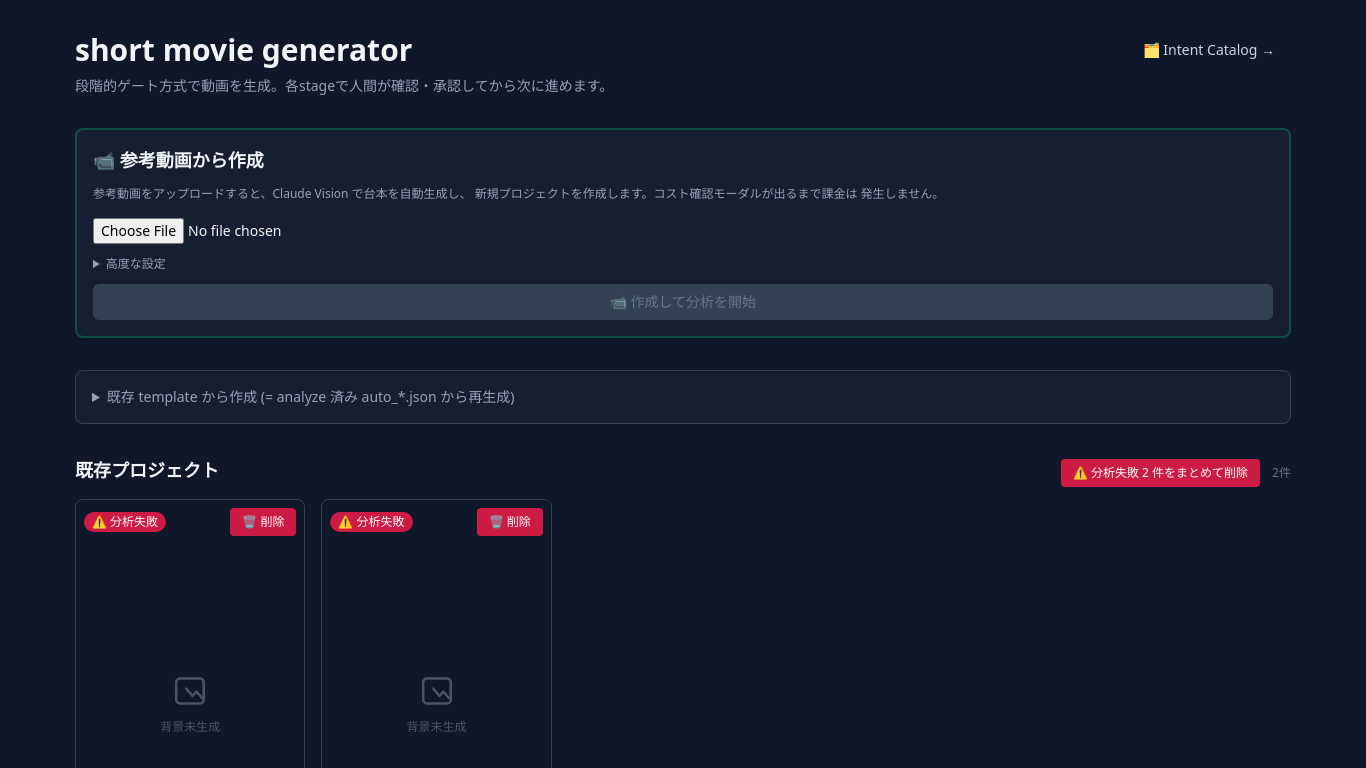
it: ProjectList bulk-delete failed button › 部分失敗 を inline error として表示
The image size is (1366, 768).
Click the button with test id "bulk-delete-failed".
click(1160, 473)  # box [1061,459,1260,487]
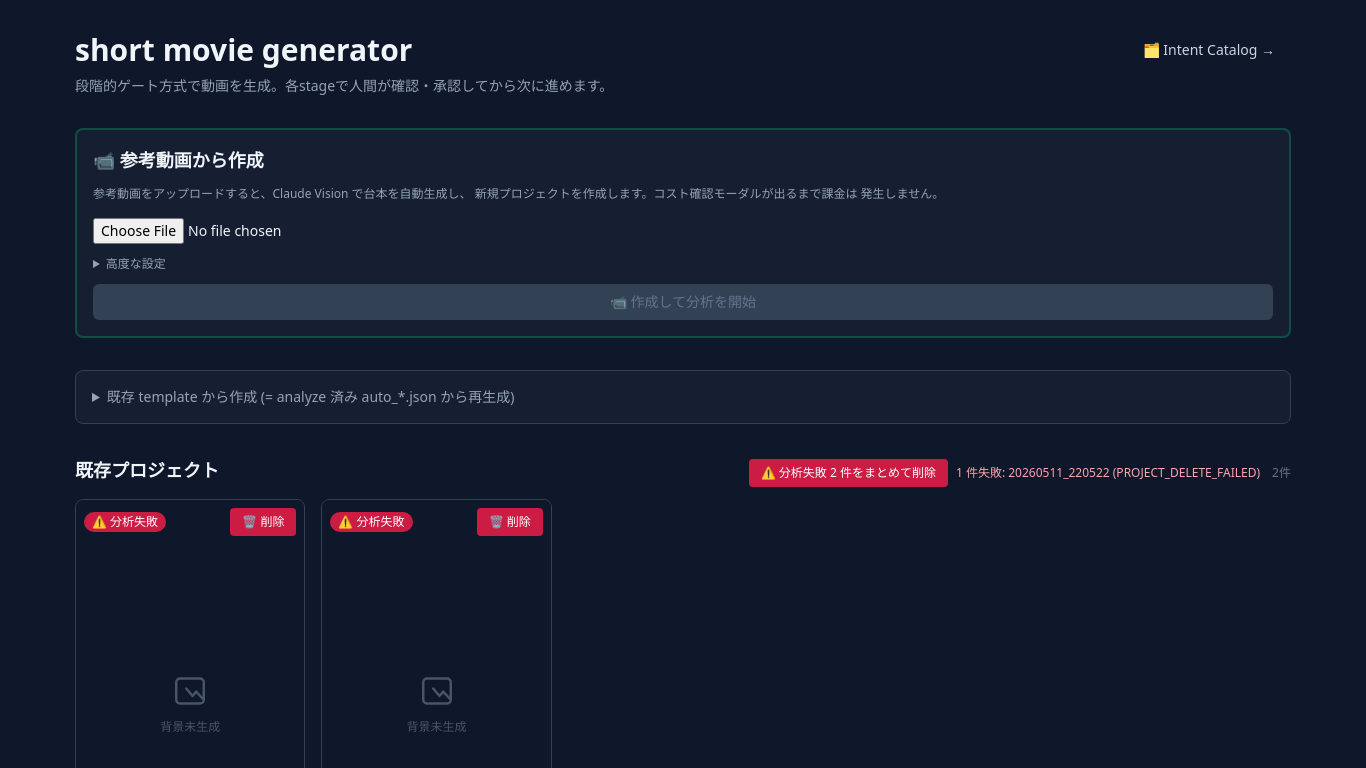
Result: the text with test id "bulk-delete-error" shows "1 件失敗" at [956,464,1260,481]
Result: the text with test id "bulk-delete-error" shows "PROJECT_DELETE_FAILED" at [956,464,1260,481]
